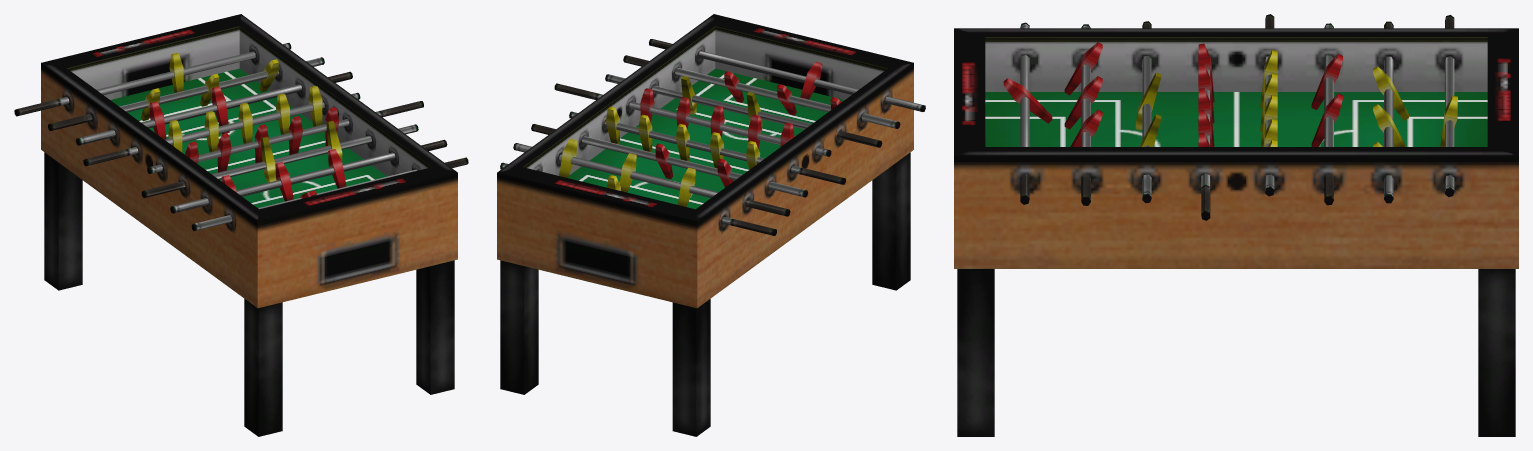
Rendered from fooseball.fbx.
3 views of the same model, side by side, from view 1: azimuth 30°, elevation 25°; view 2: azimuth 150°, elevation 25°; view 3: azimuth 270°, elevation 25° (orthographic). The views are drawn at different scales.
Visible parts, largest first — view 1: mesh_0; view 2: mesh_0; view 3: mesh_0.
Part boxes in pixels (left/top/right/bottom): mesh_0: left=14, top=14, right=468, bottom=436; mesh_0: left=497, top=14, right=925, bottom=436; mesh_0: left=954, top=14, right=1518, bottom=436.
Bounding box in the file's own units: 150 × 102 × 180.
1 material, 1 textured.
